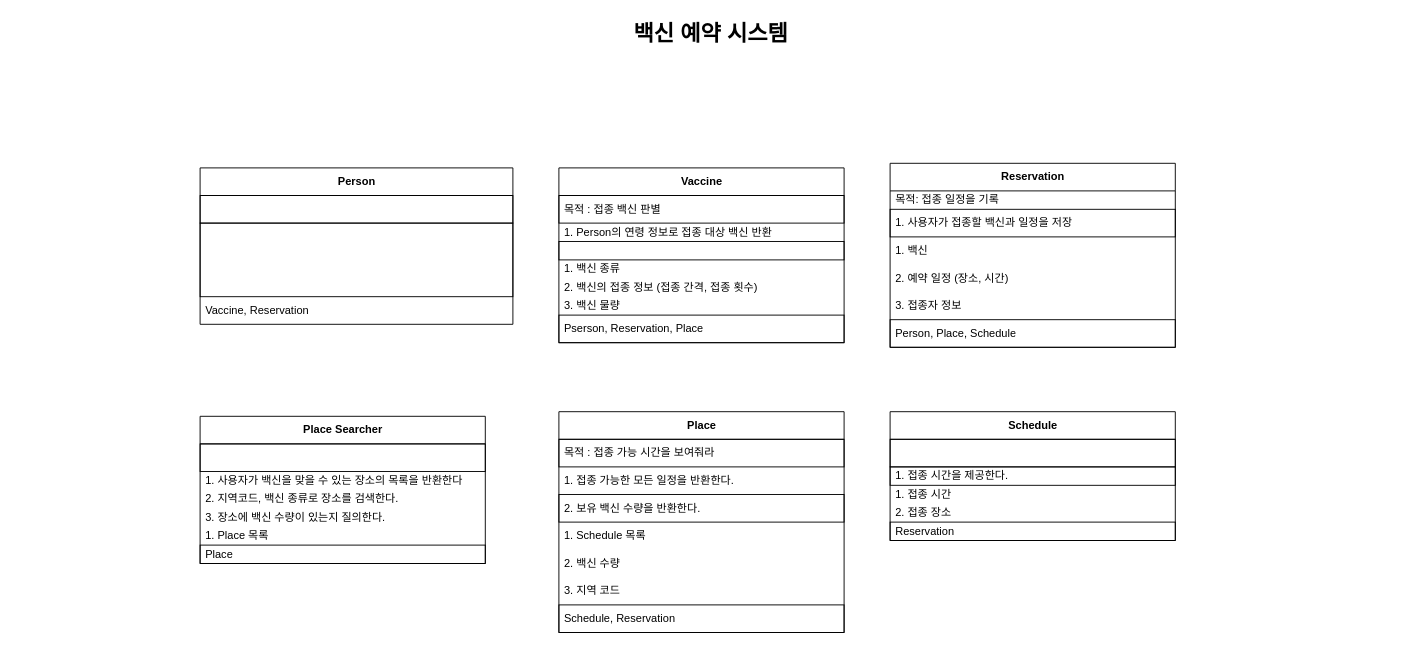
The diagram is 1420 pixels wide and 649 high, and some of its shapes have lost their labels. The centre of each missing label's shape, as x and y in pixels:
2. Pserson의 타입으로 접종 대상 백신반환: point (701, 250)
목적 : 접종 가능 장소를 반환: point (342, 457)
목적 : 접종 대상 판별: point (356, 209)
목적 : 접종 일정을 제공: point (1032, 452)
사용자의 연령 정보 사용자의 타입 (예비군, 군인, 요양시설, 의료인, 수능 수험생) 예약 정보를 저장: point (356, 259)
